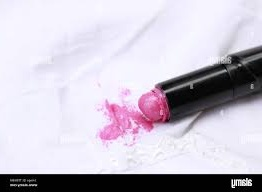lipstick: (96, 92, 147, 147)
